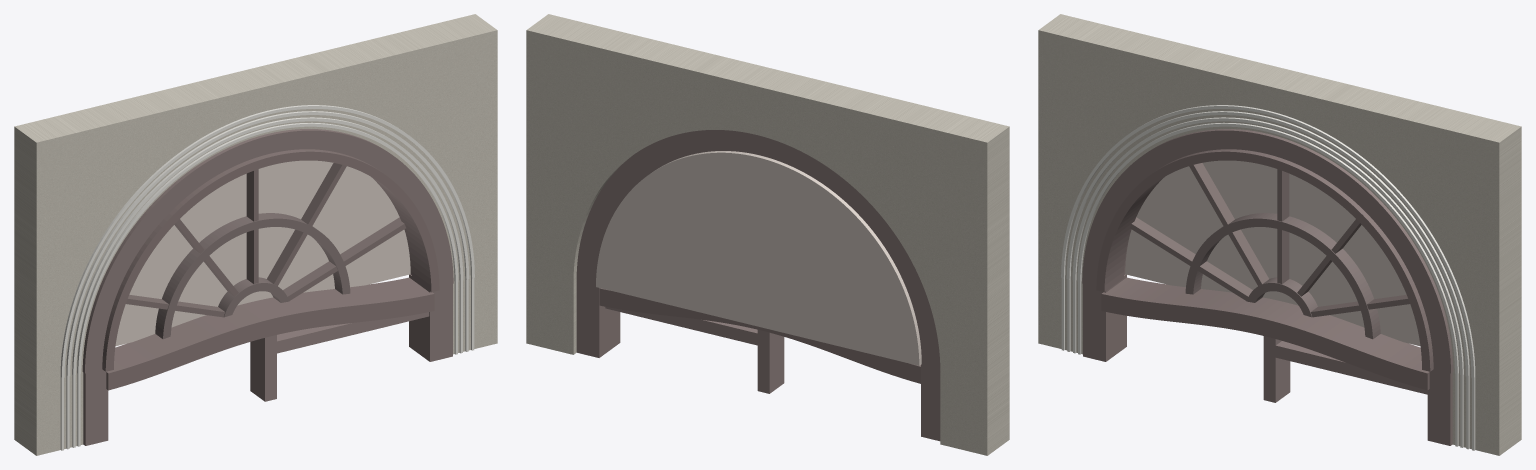
Rendered from kangping-191-side-door-fanlight-near.glb.
The picture shows the model from 3 angles, left to right: view 1: azimuth 30°, elevation 25°; view 2: azimuth 150°, elevation 25°; view 3: azimuth 330°, elevation 25°; orthographic projection.
Parts seen in each view (by area): view 1: 康平路191号边门的双道弧梃与五辐扇窗; view 2: 康平路191号边门的双道弧梃与五辐扇窗; view 3: 康平路191号边门的双道弧梃与五辐扇窗.
Boxes of the visible parts, bbox=[...] form: 康平路191号边门的双道弧梃与五辐扇窗: bbox=[14, 14, 497, 455]; 康平路191号边门的双道弧梃与五辐扇窗: bbox=[526, 14, 1009, 455]; 康平路191号边门的双道弧梃与五辐扇窗: bbox=[1038, 14, 1521, 455].
Size of the model in its own units: 2.04 by 1.32 by 0.212.
8 materials, 1 textured.
